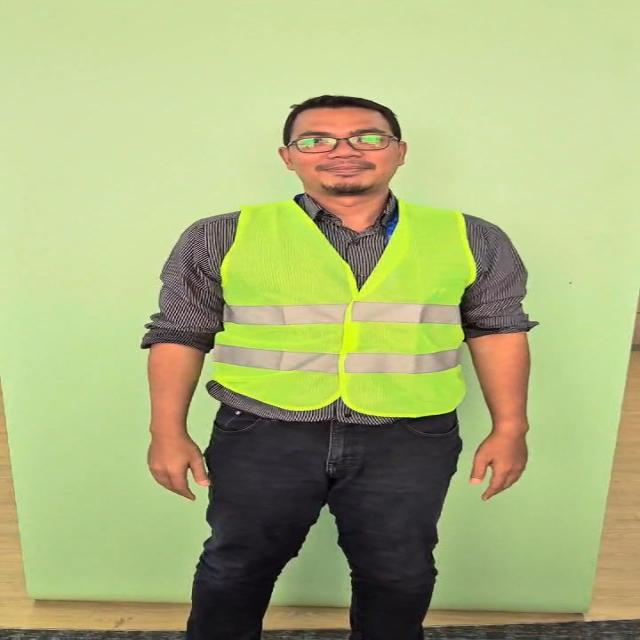goggles: (284, 134, 402, 153)
safety_vest: (209, 200, 472, 414)
